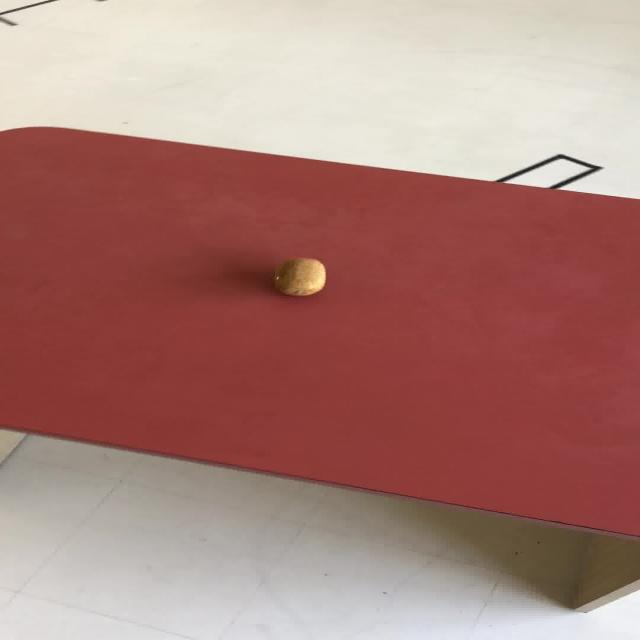kiwi: (272, 257, 326, 296)
